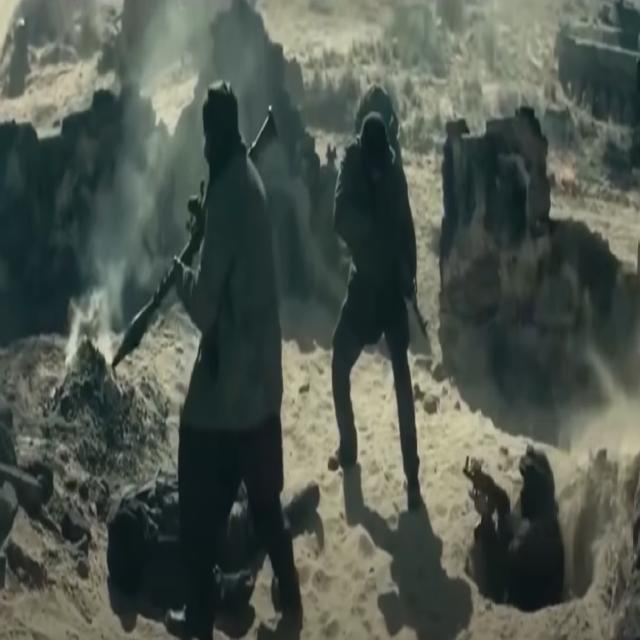bazooka: (101, 69, 289, 403)
